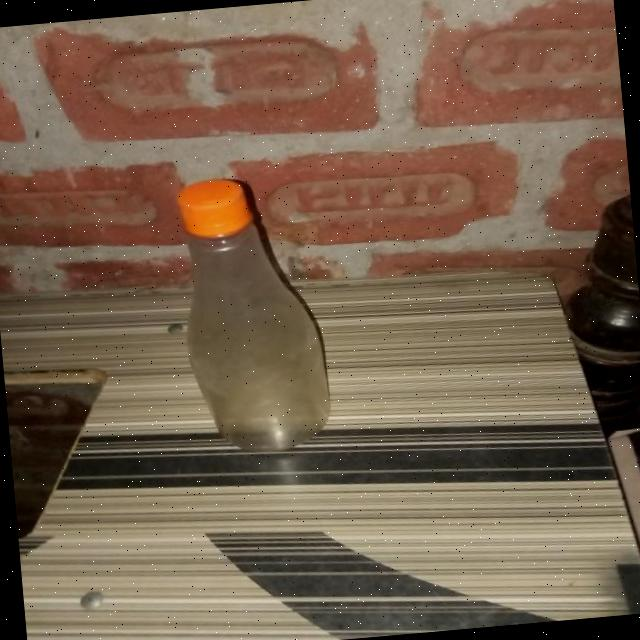bottle: (160, 166, 343, 464)
cap: (170, 173, 262, 250)
